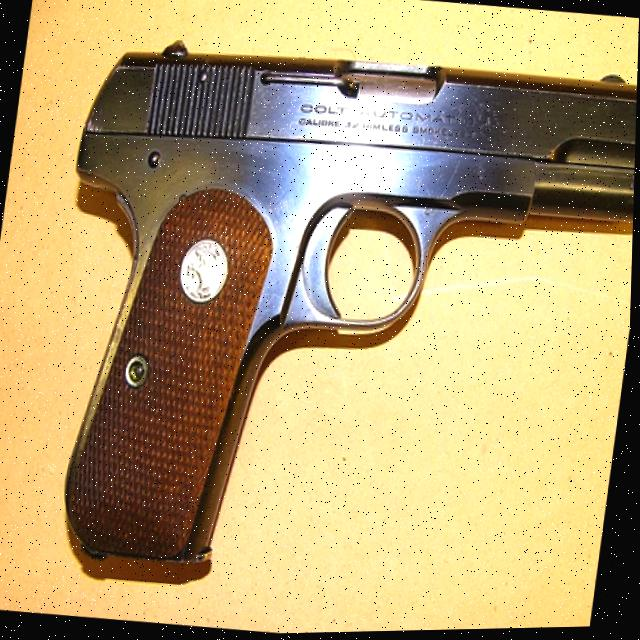pistol: (21, 17, 639, 614)
